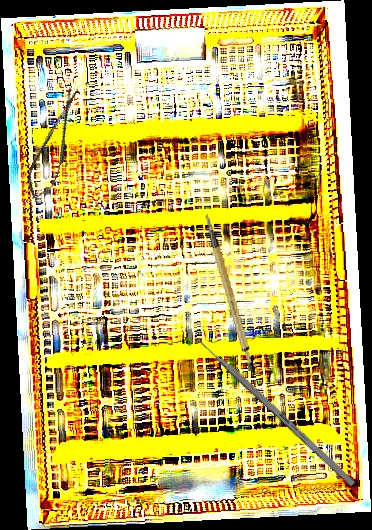Micro Scissor: (19, 84, 91, 204)
Pusher: (178, 320, 357, 488)
Scalpel Handle: (204, 209, 258, 375)
